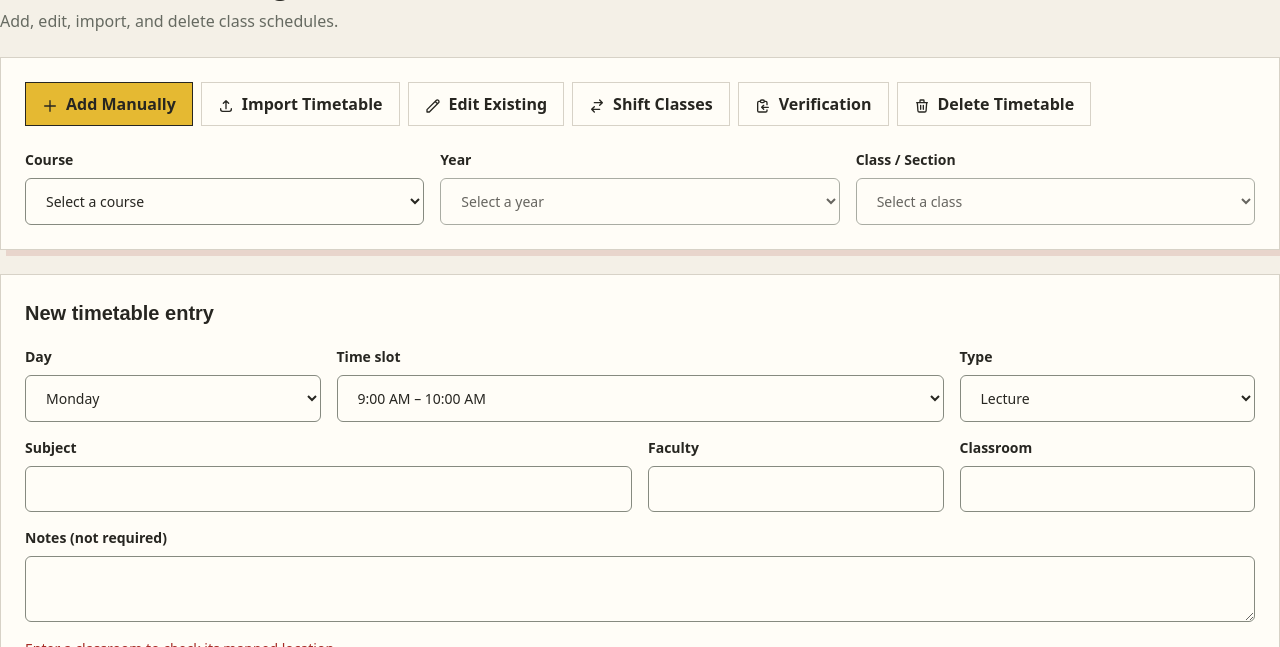
AdminTimetablePage › keeps imported rows with an unreadable day visible for correction
Select "B.Tech CSE AI" in the dropdown labelled "Course" at [225, 202], box [25, 178, 424, 225]
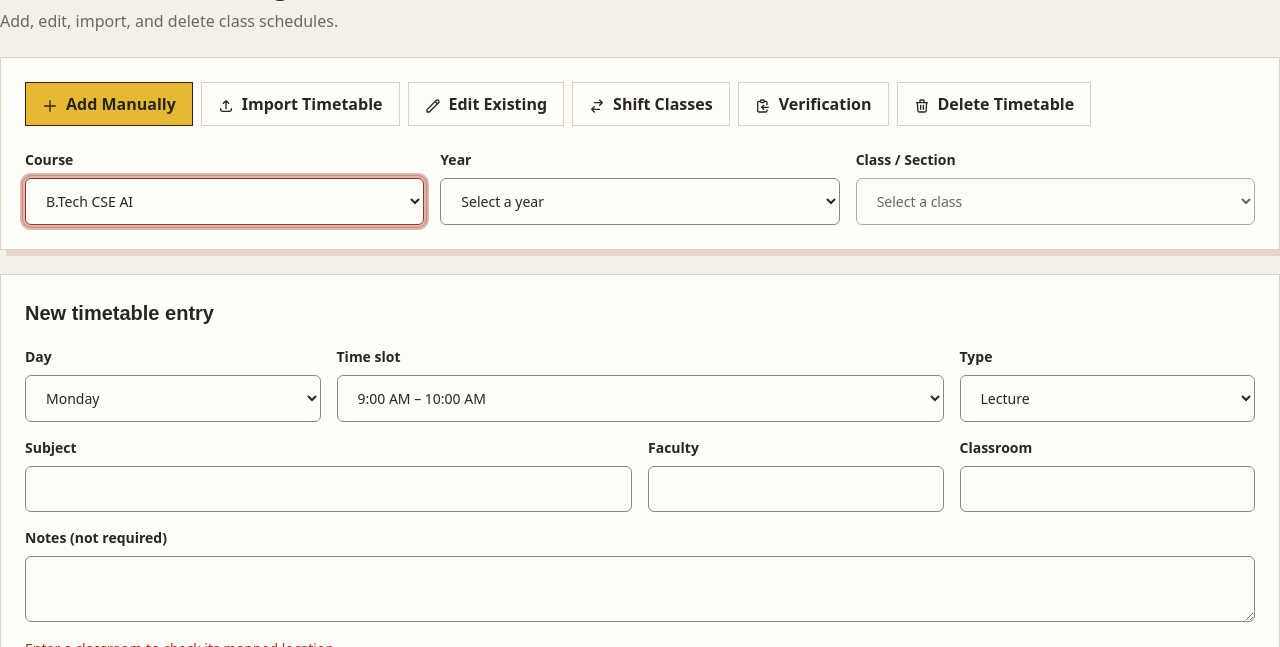
Select "Year 2" in the dropdown labelled "Year" at [640, 202], box [440, 178, 840, 225]
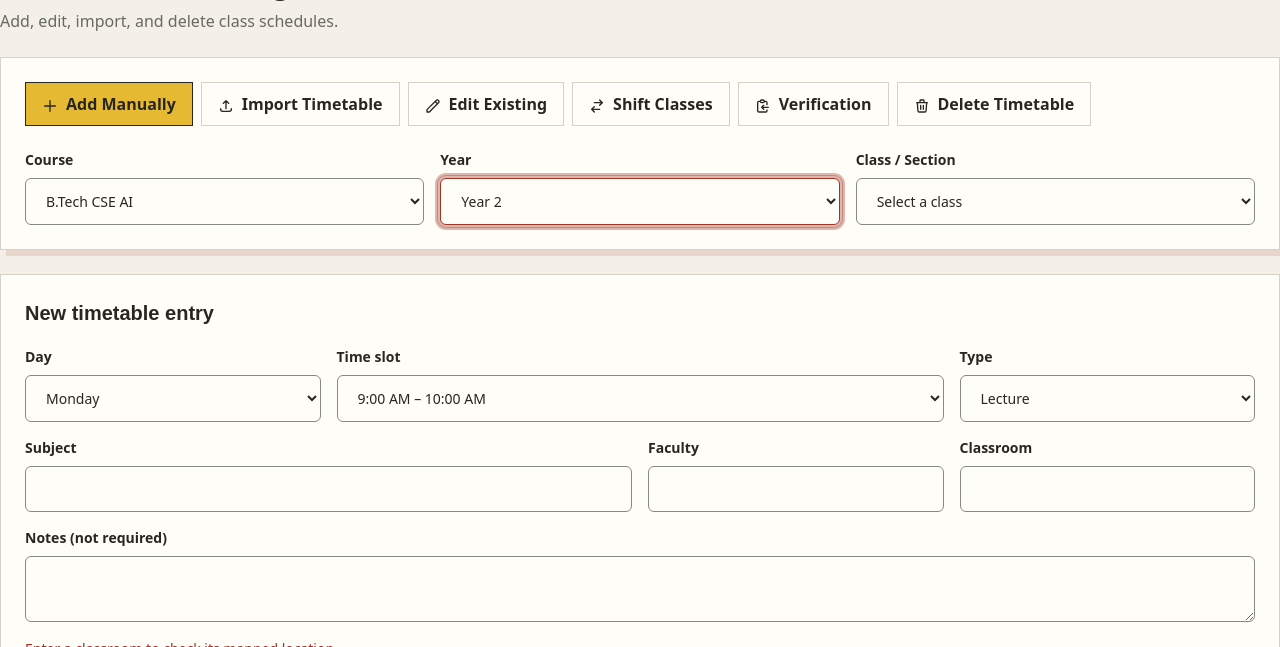
Select "CSAI2B" in the dropdown labelled "Class / Section" at [1055, 202], box [856, 178, 1255, 225]
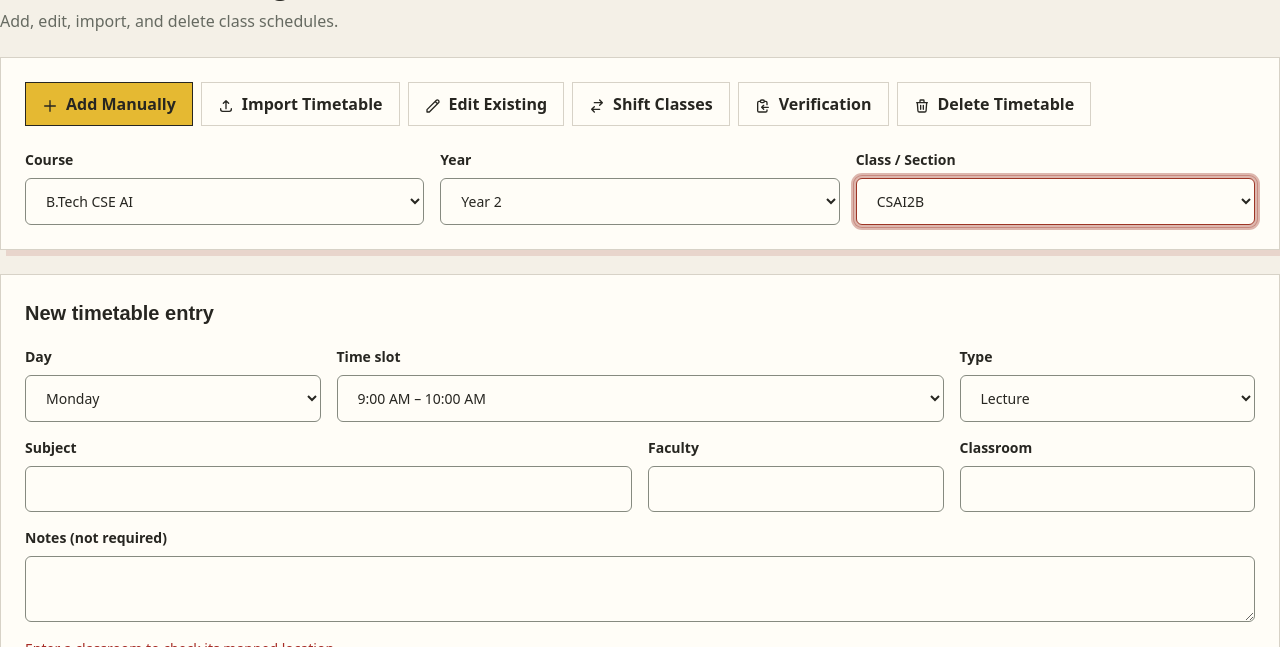
Click the tab "Import Timetable" at [300, 104], box [201, 82, 400, 126]
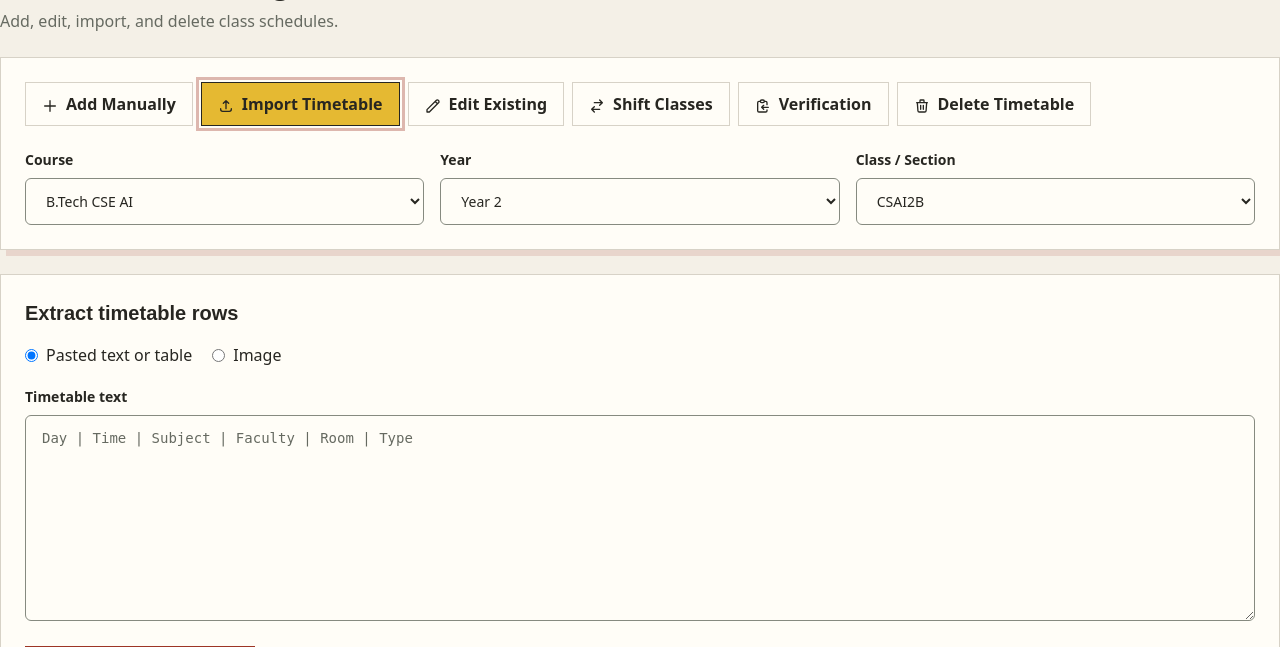
Type "unstructured timetable row" into the text box labelled "Timetable text" at [640, 518], box [25, 415, 1255, 621]
(page scrolled)
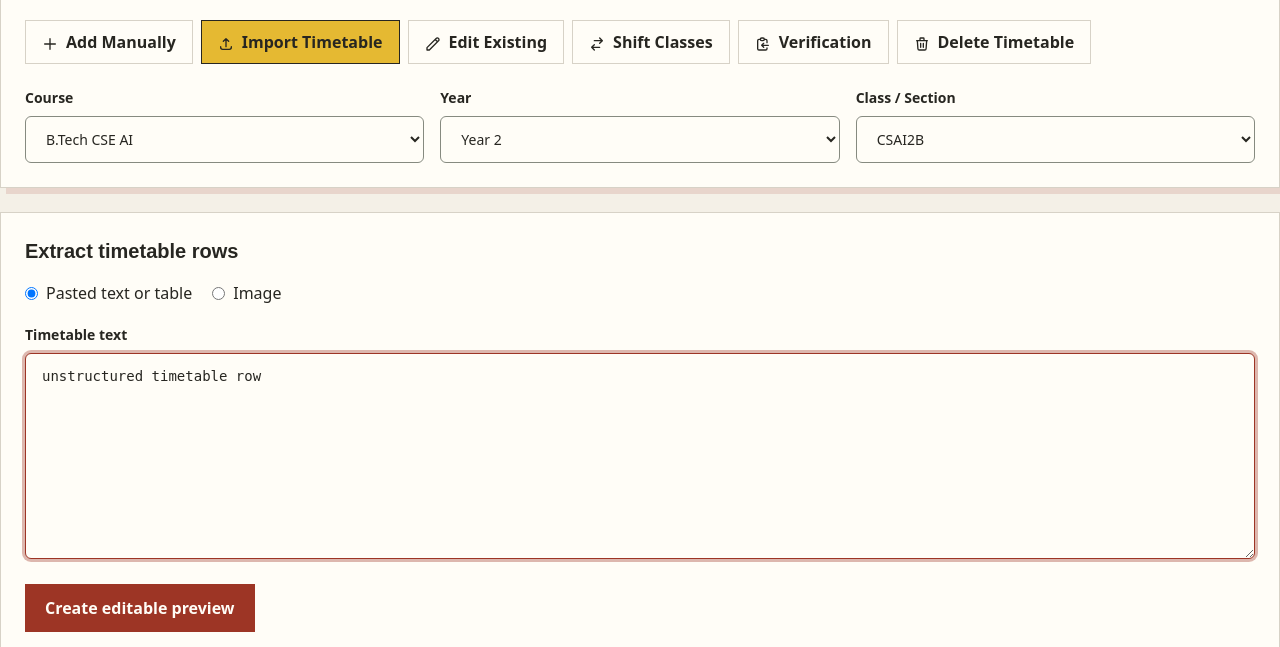
Click the button "Create editable preview" at [140, 608], box [25, 584, 254, 632]
(page scrolled)
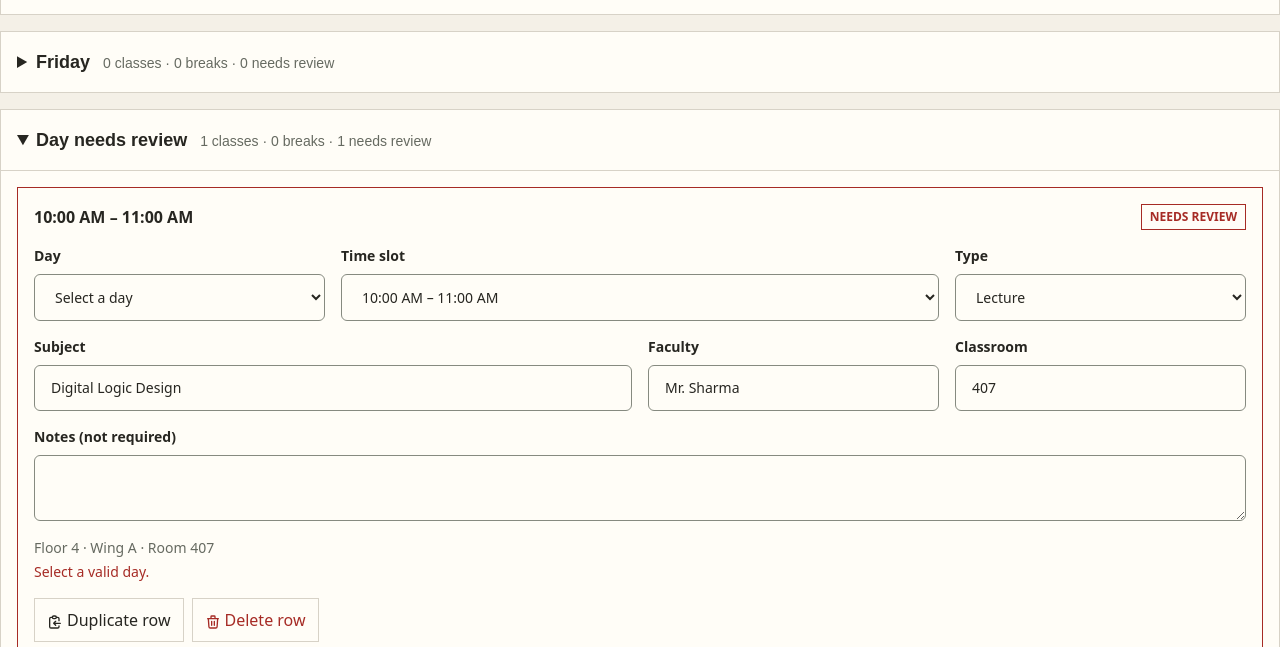
Check: the heading "Day needs review" is shown, box [36, 130, 431, 150]
Check: the field showing "Digital Logic Design" is shown, box [34, 365, 632, 411]
Check: the dropdown labelled "Day" shows "Select a day", box [34, 274, 325, 321]
